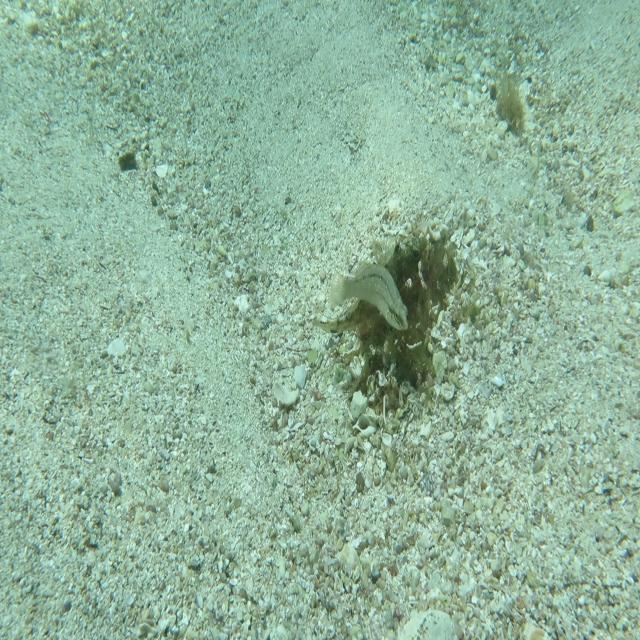ROLL: (312, 234, 428, 336)
core_nest: (411, 246, 444, 281)
female: (328, 258, 410, 333)
nest: (336, 204, 464, 420)
vegetation: (489, 71, 532, 140), (116, 147, 138, 177)
